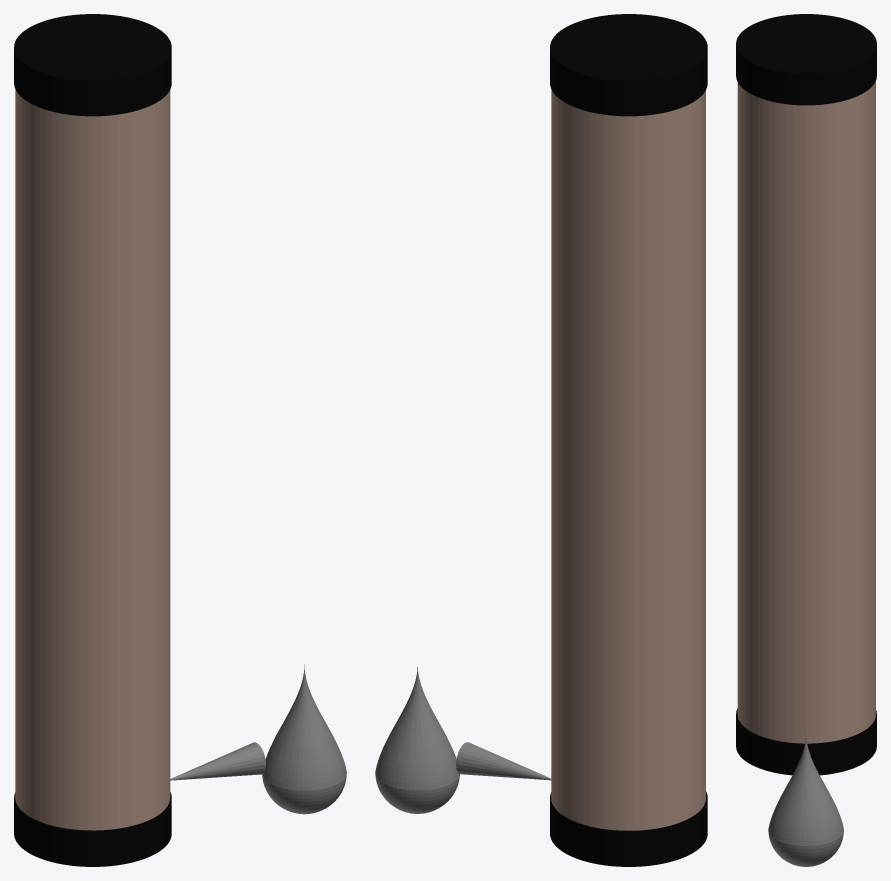
Rendered from SatMeterWithDrop.fbx.
3 views of the same model, side by side, from view 1: azimuth 30°, elevation 25°; view 2: azimuth 150°, elevation 25°; view 3: azimuth 270°, elevation 25° (orthographic). The views are drawn at different scales.
Parts seen in each view (by area): view 1: node_id30, node_id57, node_id60, node_id63; view 2: node_id30, node_id57, node_id60, node_id63; view 3: node_id30, node_id57, node_id60.
Boxes of the visible parts, x1,y1,x2,y2 form: node_id30: [15, 89, 170, 830]; node_id57: [14, 14, 171, 866]; node_id60: [262, 664, 346, 814]; node_id63: [170, 742, 265, 780]; node_id30: [551, 89, 705, 830]; node_id57: [550, 14, 707, 866]; node_id60: [375, 667, 459, 813]; node_id63: [456, 742, 551, 780]; node_id30: [737, 81, 875, 743]; node_id57: [736, 14, 876, 775]; node_id60: [768, 733, 843, 866].
Bounding box in the file's own units: 0.2156 × 0.5302 × 0.0931.
5 materials, 3 textured.
